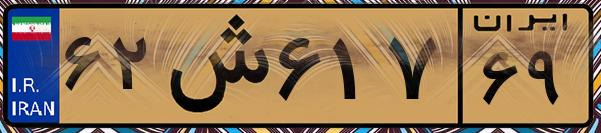1: (330, 28, 385, 110)
2: (110, 28, 158, 98)
6: (270, 28, 330, 110), (57, 26, 110, 100), (475, 38, 525, 113)
7: (385, 28, 445, 110)
9: (525, 38, 570, 115)
ش: (158, 12, 270, 120)
